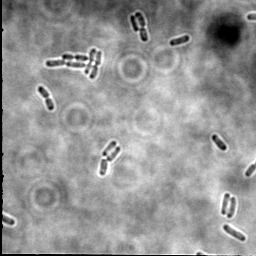Dividing: (36, 84, 56, 112), (133, 11, 149, 43)
Microcolony: (45, 47, 104, 80)
Rod: (222, 223, 247, 242), (211, 133, 228, 152), (168, 33, 191, 47), (102, 139, 118, 157), (226, 196, 238, 219), (220, 193, 231, 216), (107, 146, 121, 163), (98, 158, 109, 177), (129, 14, 139, 34)
